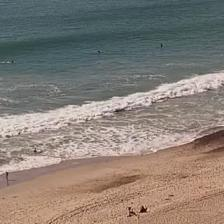surfer: (5, 60, 15, 63), (97, 50, 103, 54), (160, 43, 162, 47)
